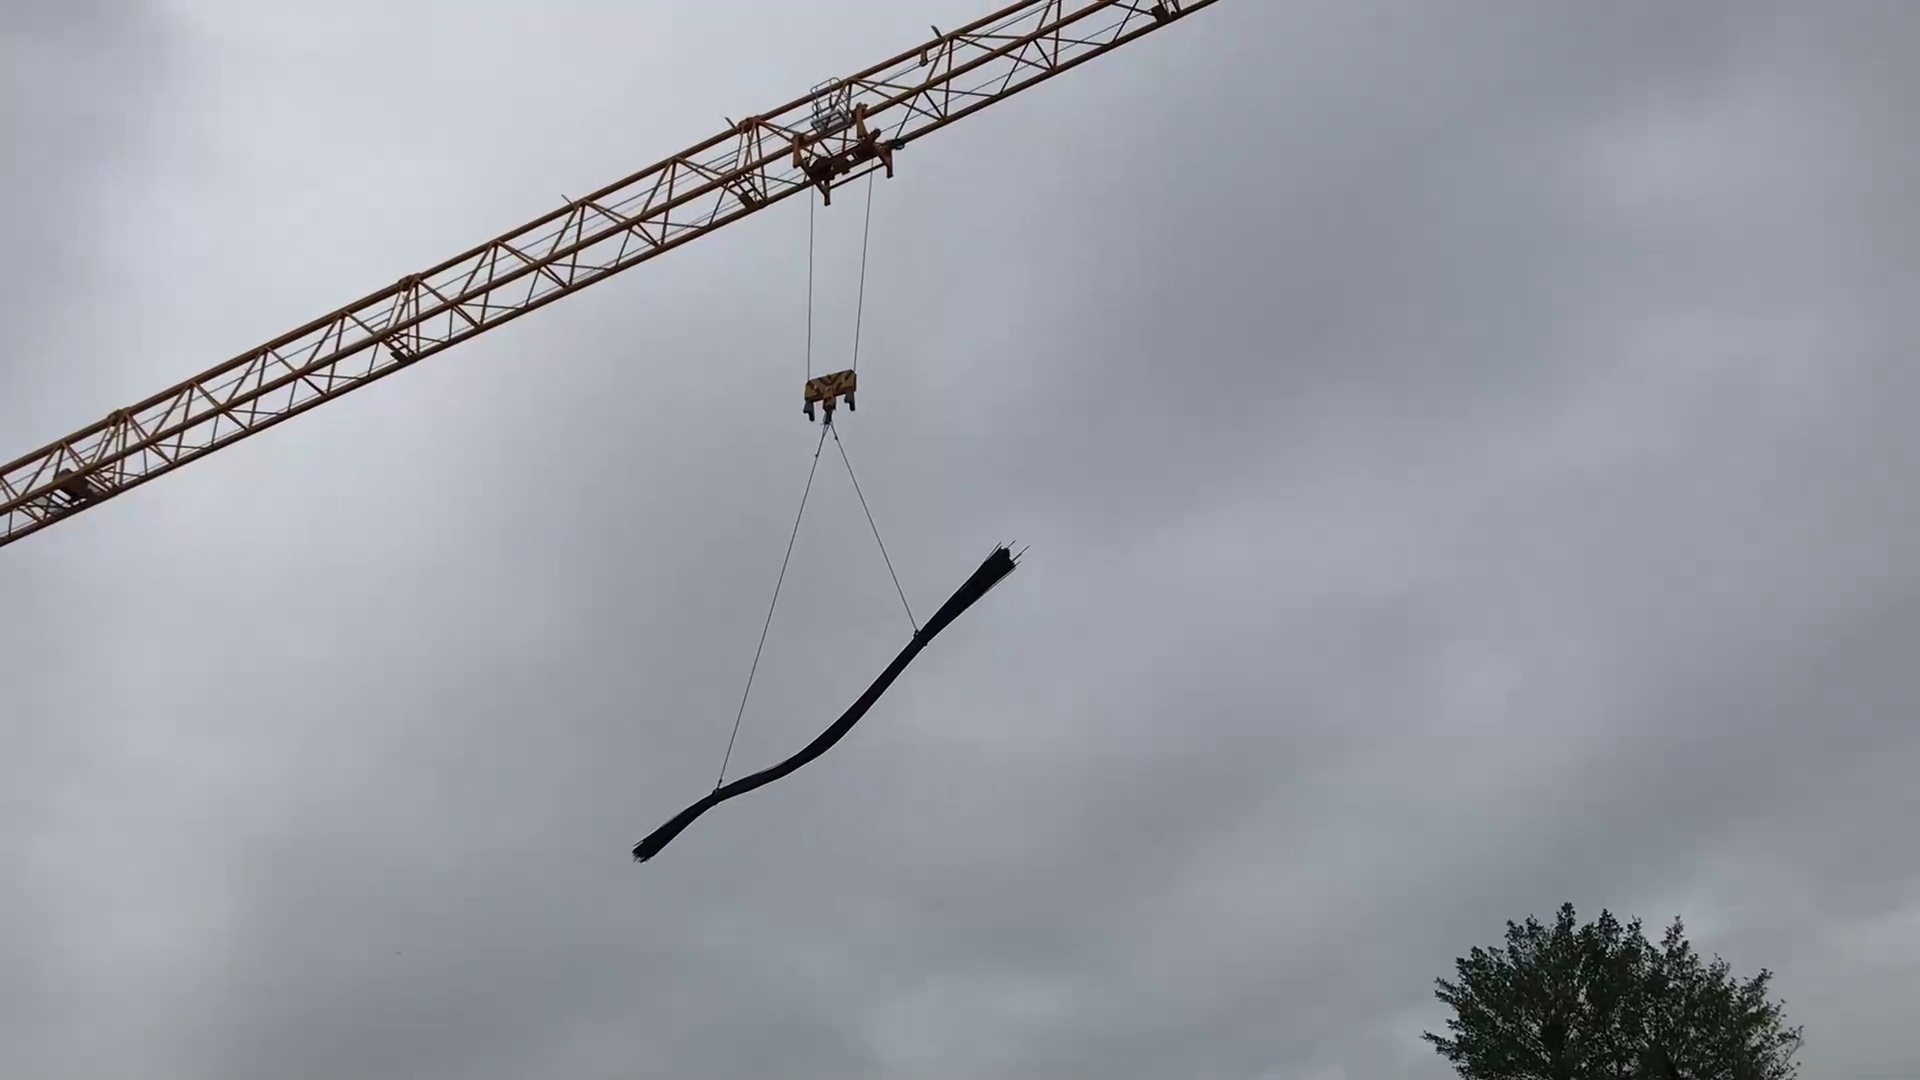hook: (791, 352, 872, 443)
rebar: (629, 531, 1038, 884)
